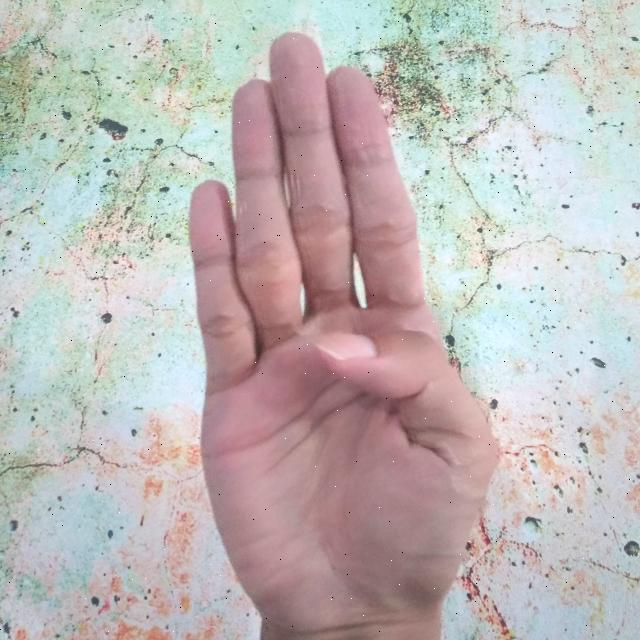B: (186, 26, 501, 640)
